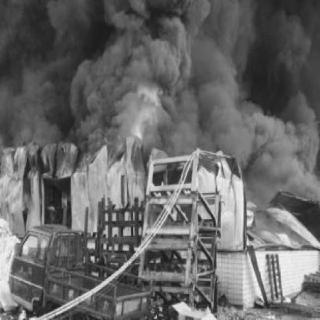Fire: (13, 167, 75, 215)
